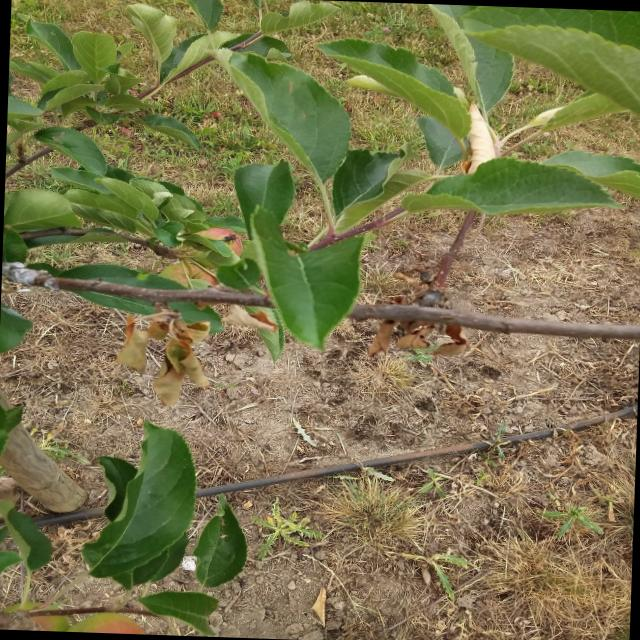-FireBlight-: (112, 277, 223, 415), (370, 268, 476, 362)
